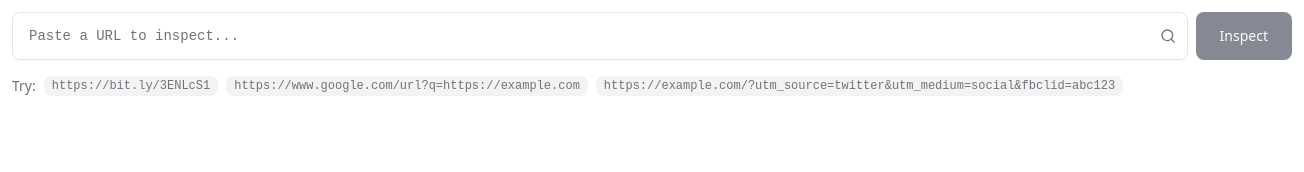
it: UrlForm › shows example URLs that can be clicked
The width and height of the screenshot is (1304, 172).
Step 1. Click the button "https://bit.ly/3ENLcS1" → (131,86), box [44,76,218,96]
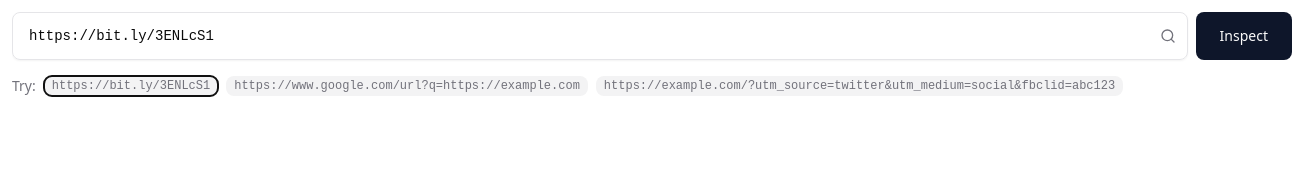
Expected: the field with placeholder "Paste a URL to inspect..." holds "https://bit.ly/3ENLcS1", [12,12,1188,60]
